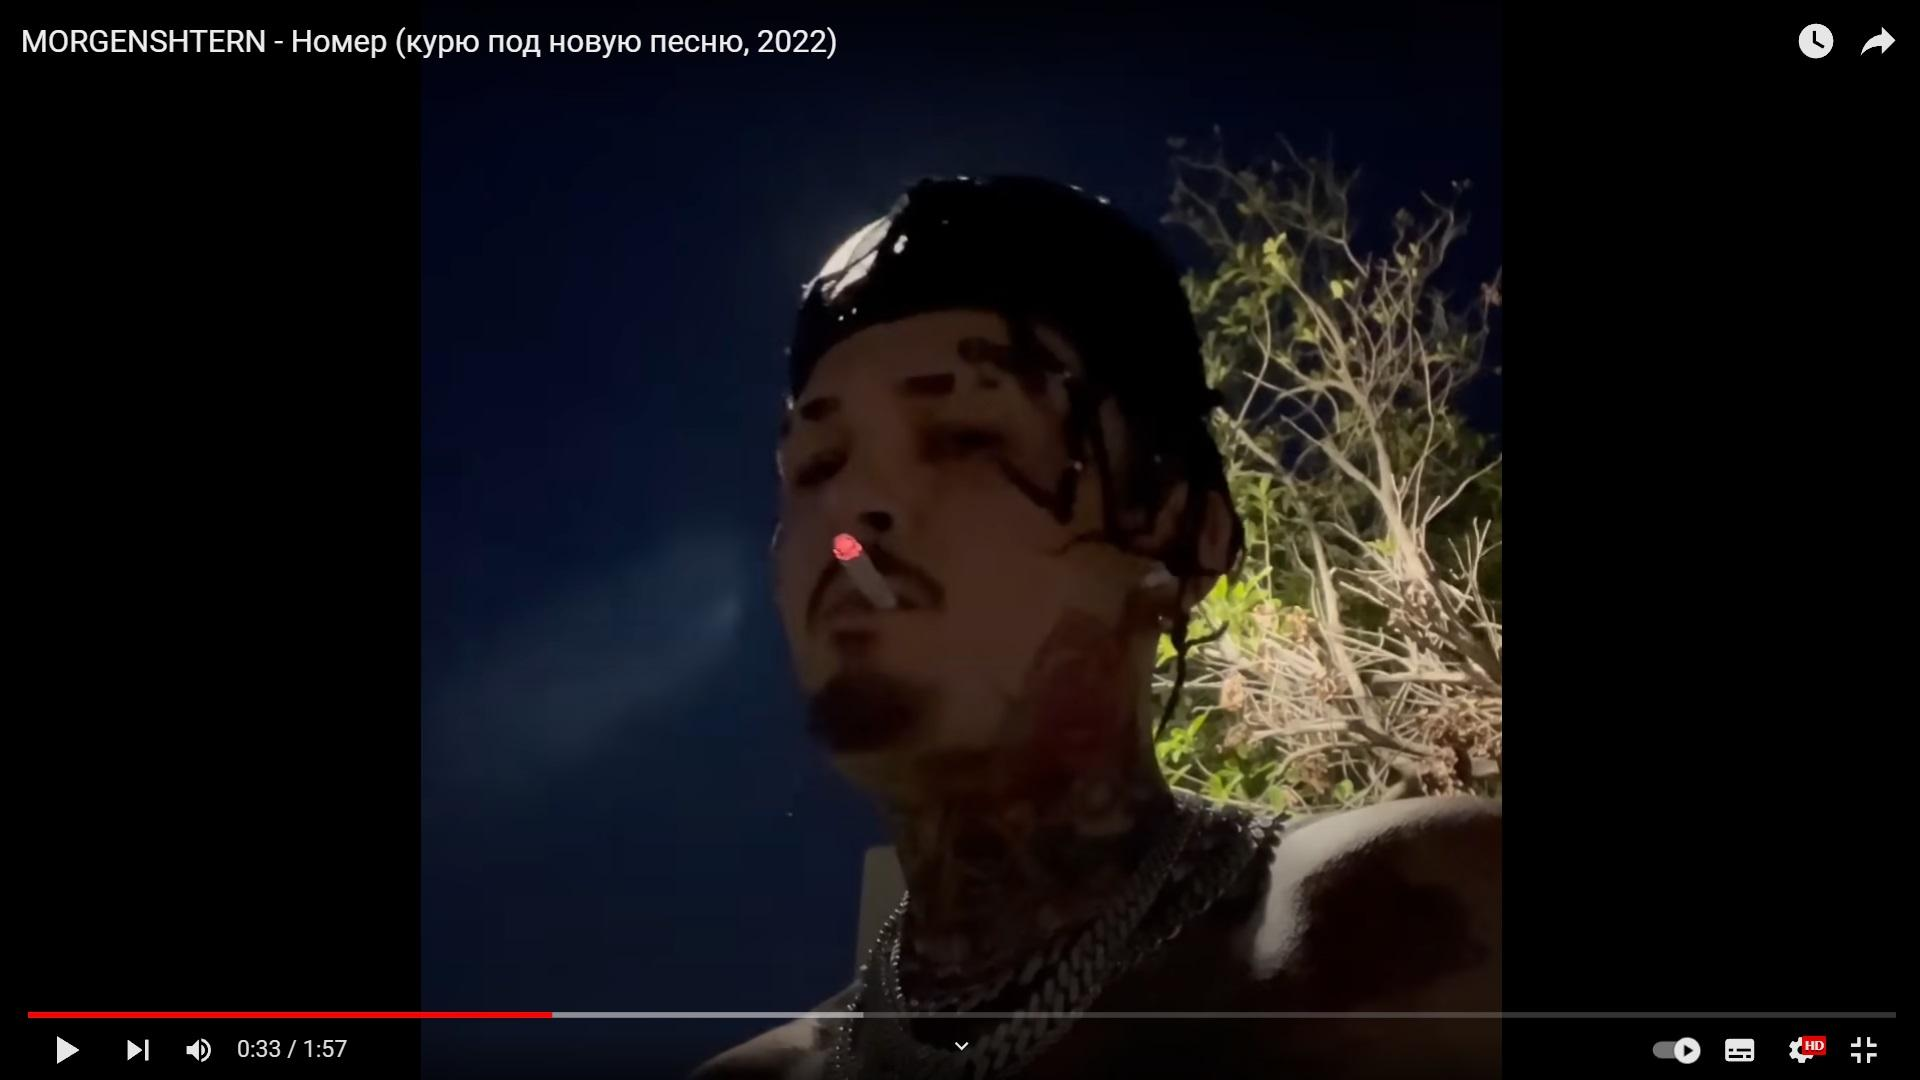cigarette: (832, 533, 899, 609)
